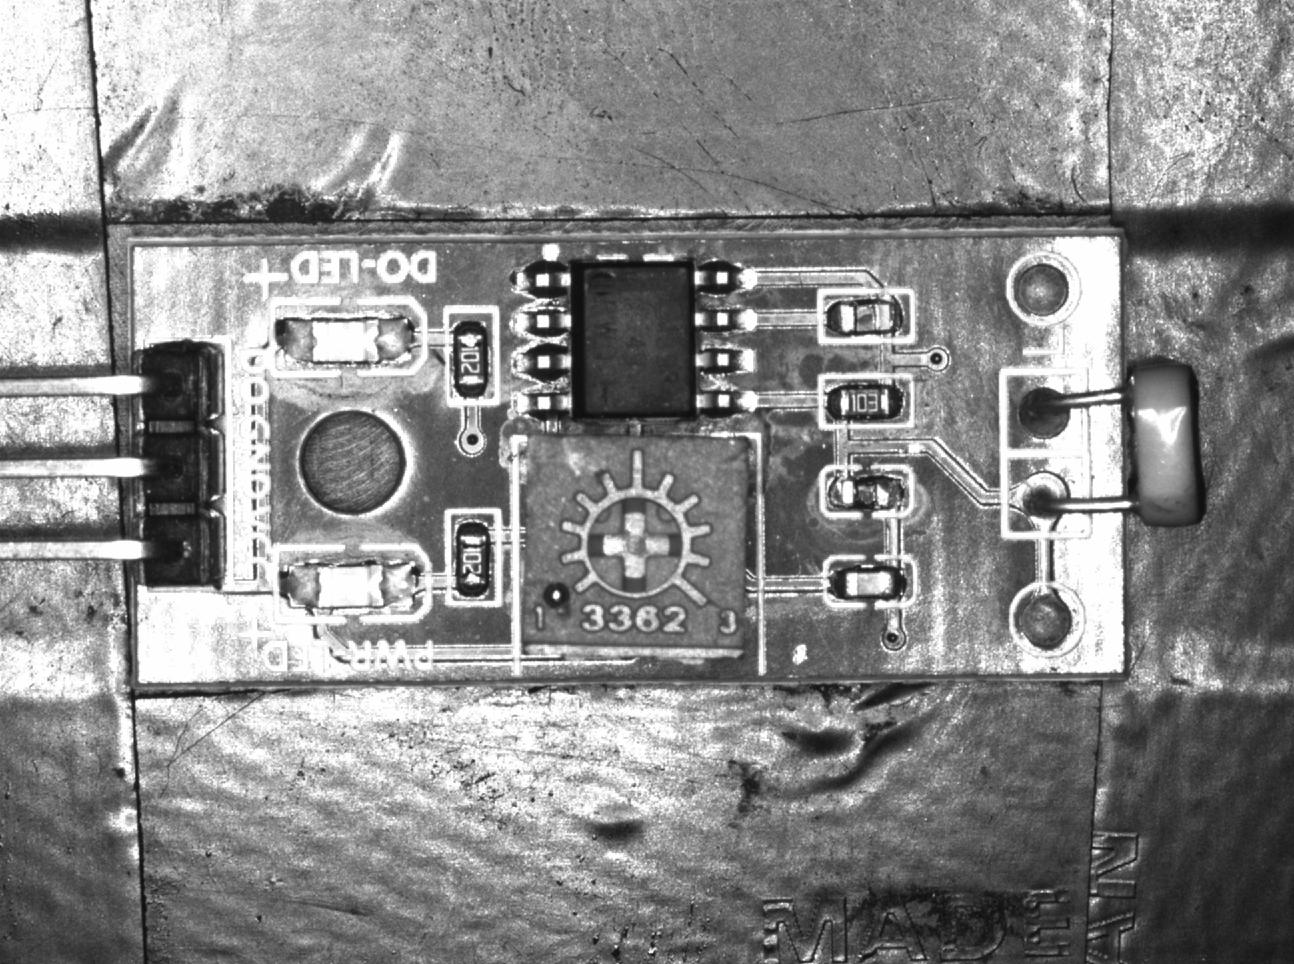miss: (819, 466, 914, 518), (815, 289, 910, 340)
ok: (816, 374, 915, 429), (446, 511, 499, 608), (446, 304, 496, 404), (825, 556, 916, 611)
